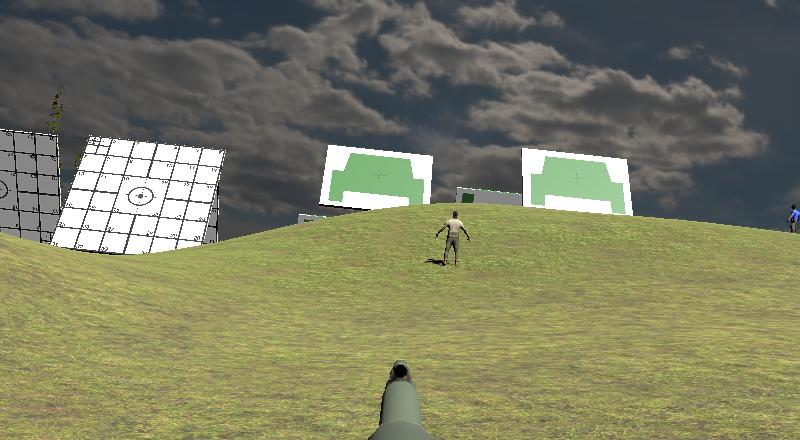Human: (433, 208, 474, 270), (786, 203, 800, 237)
